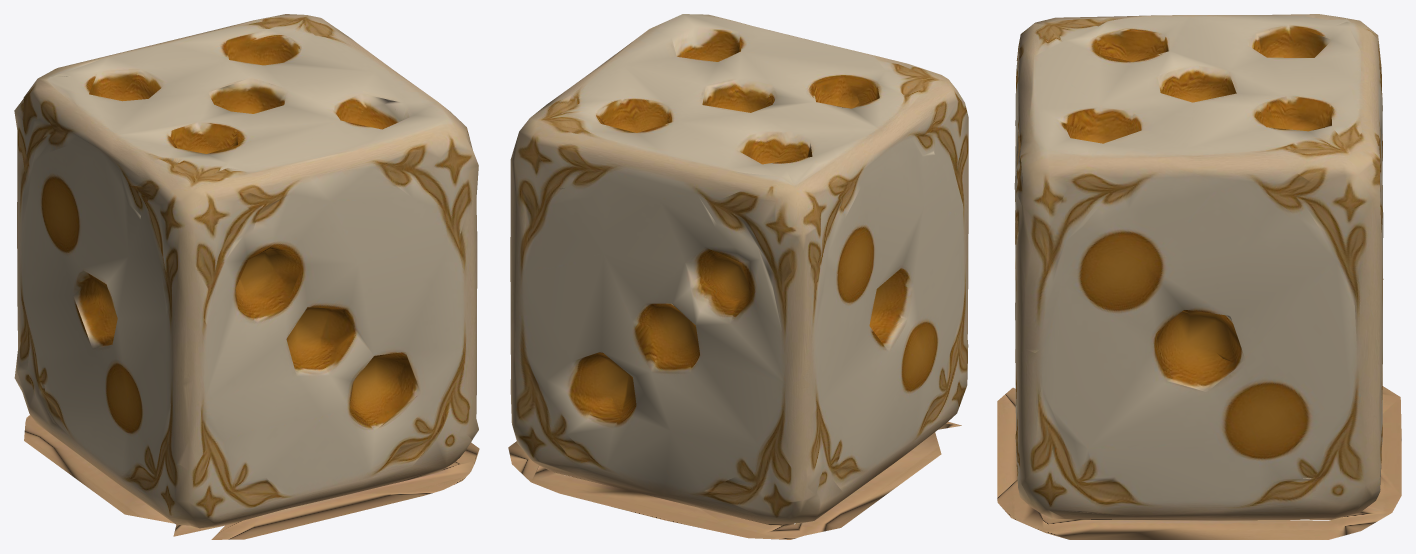
Rendered from wuerfel-original.glb.
The picture shows the model from 3 angles, left to right: view 1: azimuth 30°, elevation 25°; view 2: azimuth 150°, elevation 25°; view 3: azimuth 270°, elevation 25°; orthographic projection. The views are drawn at different scales.
Parts seen in each view (by area): view 1: tripo_node_568c4a81-8ae1-4515-9892-6a87062037fe; view 2: tripo_node_568c4a81-8ae1-4515-9892-6a87062037fe; view 3: tripo_node_568c4a81-8ae1-4515-9892-6a87062037fe.
Part boxes in pixels (bbox=[...]): tripo_node_568c4a81-8ae1-4515-9892-6a87062037fe: bbox=[14, 14, 479, 539]; tripo_node_568c4a81-8ae1-4515-9892-6a87062037fe: bbox=[508, 14, 968, 539]; tripo_node_568c4a81-8ae1-4515-9892-6a87062037fe: bbox=[997, 14, 1401, 539].
Bounding box in the file's own units: 0.0996 × 0.1 × 0.0991.
1 material, 1 textured.
